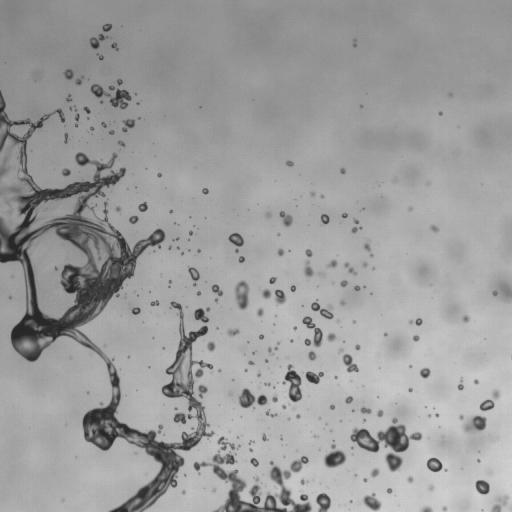droplet: (323, 439, 346, 468), (238, 388, 267, 409), (458, 414, 486, 433), (234, 280, 249, 310), (311, 299, 333, 319), (362, 492, 381, 511), (490, 494, 509, 511), (300, 370, 323, 384), (89, 33, 108, 49), (315, 492, 330, 511), (194, 307, 210, 322), (426, 457, 442, 472), (228, 232, 244, 246), (273, 289, 286, 306), (279, 211, 292, 227), (475, 480, 489, 494), (122, 118, 135, 132), (211, 284, 223, 296), (198, 384, 207, 398), (419, 367, 430, 378), (90, 25, 101, 36), (122, 107, 133, 118), (5, 109, 16, 120), (89, 113, 100, 124), (56, 122, 67, 133), (7, 156, 18, 167), (67, 160, 78, 171), (84, 163, 95, 174), (10, 168, 21, 179), (2, 174, 13, 185), (7, 174, 18, 185), (55, 178, 66, 189), (37, 179, 48, 190), (329, 212, 340, 223), (107, 213, 118, 224), (5, 221, 16, 232), (189, 236, 200, 247), (308, 257, 319, 268), (10, 259, 21, 270), (336, 267, 347, 278), (224, 289, 235, 300), (246, 291, 257, 302), (107, 295, 118, 306), (227, 296, 238, 307), (138, 299, 149, 310), (246, 299, 257, 310), (183, 308, 194, 319), (310, 311, 321, 322), (190, 319, 201, 330), (77, 322, 88, 333), (263, 335, 274, 346), (193, 336, 204, 347), (299, 379, 310, 390), (103, 385, 114, 396), (199, 394, 210, 405), (177, 395, 188, 406), (114, 410, 125, 421), (186, 418, 197, 429), (174, 422, 185, 433), (183, 422, 194, 433), (337, 441, 348, 452), (209, 442, 220, 453), (379, 443, 390, 454), (377, 459, 388, 470), (150, 460, 161, 471), (278, 460, 289, 471), (260, 463, 271, 474), (201, 465, 212, 476), (173, 469, 184, 480), (140, 474, 151, 485), (221, 480, 232, 491), (269, 484, 280, 495), (239, 490, 250, 501), (375, 491, 386, 502), (217, 492, 228, 503), (156, 494, 167, 505), (63, 69, 73, 79), (138, 201, 148, 211), (326, 332, 336, 342), (320, 214, 329, 225), (326, 259, 337, 268), (262, 288, 271, 299), (206, 341, 215, 352), (227, 328, 239, 336), (75, 75, 84, 85), (370, 467, 379, 477), (308, 350, 316, 361), (360, 406, 371, 414), (81, 80, 90, 89), (59, 101, 68, 110), (64, 111, 73, 120), (114, 130, 123, 139), (111, 163, 120, 172), (64, 175, 73, 184), (12, 200, 21, 209), (126, 239, 135, 248), (342, 271, 351, 280), (347, 276, 356, 285), (267, 283, 276, 292), (160, 299, 169, 308), (140, 303, 149, 312), (12, 314, 21, 323), (412, 325, 421, 334), (305, 328, 314, 337), (56, 334, 65, 343), (89, 334, 98, 343), (331, 338, 340, 347), (253, 354, 262, 363), (162, 374, 171, 383), (102, 375, 111, 384), (192, 377, 201, 386), (335, 398, 344, 407), (264, 399, 273, 408), (90, 400, 99, 409), (225, 433, 234, 442), (238, 436, 247, 445), (222, 463, 231, 472), (332, 464, 341, 473), (282, 478, 291, 487), (128, 486, 137, 495), (290, 492, 299, 501), (113, 498, 122, 507), (250, 457, 258, 467), (61, 168, 70, 176), (129, 215, 138, 223), (430, 224, 439, 232), (344, 395, 353, 403), (143, 505, 154, 511), (309, 505, 320, 511), (102, 24, 111, 31), (131, 307, 140, 314), (256, 307, 263, 316), (300, 478, 309, 485), (272, 392, 278, 402), (111, 42, 118, 50), (65, 94, 72, 102), (277, 248, 284, 256), (269, 277, 277, 284), (376, 409, 383, 417), (406, 475, 413, 483), (0, 206, 5, 217), (150, 300, 159, 306), (96, 53, 103, 60), (83, 106, 90, 113), (238, 256, 245, 263), (340, 280, 347, 287), (462, 315, 469, 322), (412, 334, 419, 341), (72, 72, 79, 79), (101, 84, 108, 91), (109, 90, 116, 97), (30, 116, 37, 123), (94, 123, 101, 130), (114, 127, 121, 134), (4, 137, 11, 144), (101, 157, 108, 164), (55, 167, 62, 174), (48, 182, 55, 189), (100, 185, 107, 192), (7, 191, 14, 198), (86, 197, 93, 204), (135, 210, 142, 217), (142, 231, 149, 238), (146, 244, 153, 251), (135, 255, 142, 262), (366, 257, 373, 264), (336, 260, 343, 267), (298, 264, 305, 271), (310, 264, 317, 271), (298, 268, 305, 275), (310, 273, 317, 280), (122, 277, 129, 284), (231, 278, 238, 285), (346, 282, 353, 289), (283, 288, 290, 295), (269, 292, 276, 299), (208, 301, 215, 308), (280, 301, 287, 308), (5, 326, 12, 333), (220, 326, 227, 333), (4, 329, 11, 336), (289, 330, 296, 337), (4, 334, 11, 341), (308, 343, 315, 350), (171, 344, 178, 351), (39, 350, 46, 357), (37, 353, 44, 360), (20, 357, 27, 364), (201, 366, 208, 373), (280, 367, 287, 374), (311, 367, 318, 374), (259, 375, 266, 382), (300, 376, 307, 383), (118, 379, 125, 386), (489, 383, 496, 390), (235, 388, 242, 395), (192, 391, 199, 398), (252, 391, 259, 398), (265, 393, 272, 400), (170, 396, 177, 403), (102, 399, 109, 406), (251, 400, 258, 407), (348, 401, 355, 408), (260, 403, 267, 410), (189, 408, 196, 415), (370, 408, 377, 415), (477, 409, 484, 416), (76, 415, 83, 422), (456, 419, 463, 426), (127, 421, 134, 428), (356, 422, 363, 429), (380, 425, 387, 432), (140, 426, 147, 433), (404, 428, 411, 435), (478, 428, 485, 435), (370, 431, 377, 438), (154, 434, 161, 441), (211, 434, 218, 441), (113, 436, 120, 443), (175, 436, 182, 443), (408, 438, 415, 445), (190, 445, 197, 452), (138, 446, 145, 453), (386, 446, 393, 453), (325, 447, 332, 454), (175, 448, 182, 455), (342, 448, 349, 455), (396, 450, 403, 457), (293, 453, 300, 460), (147, 454, 154, 461), (344, 454, 351, 461), (318, 457, 325, 464), (398, 463, 405, 470), (177, 465, 184, 472), (329, 465, 336, 472), (289, 470, 296, 477), (363, 470, 370, 477), (235, 471, 242, 478), (211, 473, 218, 480), (481, 474, 488, 481), (367, 475, 374, 482), (166, 485, 173, 492), (357, 493, 364, 500), (374, 493, 381, 500), (259, 494, 266, 501), (257, 500, 264, 507), (424, 500, 431, 507), (117, 140, 125, 146), (262, 433, 268, 441), (363, 506, 372, 511), (432, 506, 441, 511), (499, 506, 508, 511), (286, 160, 293, 166), (202, 188, 209, 194), (289, 285, 295, 292), (353, 285, 360, 291), (338, 347, 344, 354), (491, 435, 498, 441), (428, 484, 434, 491), (115, 206, 121, 212), (265, 212, 271, 218), (339, 299, 345, 305), (329, 404, 335, 410), (284, 415, 290, 421), (486, 469, 492, 475), (0, 149, 4, 158), (0, 195, 4, 204), (117, 78, 122, 85), (317, 272, 324, 277), (248, 440, 255, 445), (108, 85, 114, 90), (101, 121, 106, 127), (340, 168, 345, 174), (310, 191, 315, 197), (341, 213, 347, 218), (189, 230, 195, 235), (492, 290, 498, 295), (355, 344, 360, 350), (248, 360, 254, 365), (473, 379, 479, 384), (281, 403, 286, 409), (386, 488, 392, 493), (54, 266, 58, 273), (257, 370, 261, 377), (507, 280, 511, 287), (507, 497, 511, 504), (325, 507, 332, 511), (376, 507, 383, 511), (157, 172, 162, 177), (362, 262, 367, 267), (196, 290, 201, 295), (259, 334, 264, 339), (442, 506, 447, 511), (101, 30, 106, 35), (94, 33, 99, 38), (98, 40, 103, 45), (87, 45, 92, 50), (94, 47, 99, 52), (60, 74, 65, 79), (70, 76, 75, 81), (80, 78, 85, 83), (88, 80, 93, 85), (75, 84, 80, 89), (118, 85, 123, 90), (128, 91, 133, 96), (1, 92, 6, 97), (90, 93, 95, 98), (100, 94, 105, 99), (2, 95, 7, 100), (95, 96, 100, 101), (68, 100, 73, 105), (54, 104, 59, 109), (87, 104, 92, 109), (115, 105, 120, 110), (3, 107, 8, 112), (44, 109, 49, 114), (71, 111, 76, 116), (54, 112, 59, 117), (41, 120, 46, 125), (133, 120, 138, 125), (120, 122, 125, 127), (105, 126, 110, 131), (126, 126, 131, 131), (25, 138, 30, 143), (25, 145, 30, 150), (72, 149, 77, 154), (116, 152, 121, 157), (107, 153, 112, 158), (87, 155, 92, 160), (288, 156, 293, 161), (338, 163, 343, 168), (344, 167, 349, 172), (26, 168, 31, 173), (123, 171, 128, 176), (19, 172, 24, 177), (118, 177, 123, 182), (88, 178, 93, 183), (115, 180, 120, 185), (305, 192, 310, 197), (314, 192, 319, 197), (101, 196, 106, 201), (4, 204, 9, 209), (340, 208, 345, 213), (284, 209, 289, 214), (106, 212, 111, 217), (20, 213, 25, 218), (99, 213, 104, 218), (278, 216, 283, 221), (126, 221, 131, 226), (290, 221, 295, 226), (433, 221, 438, 226), (351, 222, 356, 227), (354, 223, 359, 228), (113, 224, 118, 229), (160, 225, 165, 230), (191, 227, 196, 232), (428, 229, 433, 234), (163, 230, 168, 235), (239, 231, 244, 236), (159, 240, 164, 245), (173, 240, 178, 245), (242, 241, 247, 246), (359, 241, 364, 246), (368, 242, 373, 247), (231, 243, 236, 248), (152, 244, 157, 249), (171, 245, 176, 250), (237, 245, 242, 250), (273, 247, 278, 252), (282, 247, 287, 252), (191, 248, 196, 253), (310, 248, 315, 253), (363, 249, 368, 254), (302, 254, 307, 259), (343, 257, 348, 262), (325, 258, 330, 263), (348, 262, 353, 267), (366, 264, 371, 269), (328, 266, 333, 271), (343, 266, 348, 271), (353, 266, 358, 271), (185, 272, 190, 277), (237, 276, 242, 281), (338, 276, 343, 281), (244, 278, 249, 283), (195, 279, 200, 284), (335, 280, 340, 285), (193, 286, 198, 291), (489, 286, 494, 291), (117, 288, 122, 293), (496, 288, 501, 293), (257, 290, 262, 295), (213, 292, 218, 297), (496, 292, 501, 297), (217, 295, 222, 300), (175, 298, 180, 303), (180, 303, 185, 308), (319, 303, 324, 308), (194, 304, 199, 309), (201, 305, 206, 310), (181, 306, 186, 311), (173, 307, 178, 312), (262, 309, 267, 314), (462, 310, 467, 315), (203, 311, 208, 316), (465, 311, 470, 316), (332, 314, 337, 319), (256, 315, 261, 320), (457, 315, 462, 320), (272, 317, 277, 322), (329, 317, 334, 322), (463, 321, 468, 326), (230, 325, 235, 330), (206, 328, 211, 333), (333, 330, 338, 335), (222, 331, 227, 336), (408, 333, 413, 338), (321, 334, 326, 339), (413, 340, 418, 345), (190, 341, 195, 346), (213, 341, 218, 346), (339, 342, 344, 347), (269, 343, 274, 348), (84, 346, 89, 351), (203, 346, 208, 351), (213, 346, 218, 351), (100, 347, 105, 352), (339, 351, 344, 356), (93, 352, 98, 357), (303, 352, 308, 357), (170, 355, 175, 360), (191, 355, 196, 360), (266, 355, 271, 360), (202, 358, 207, 363), (168, 359, 173, 364), (29, 360, 34, 365), (111, 360, 116, 365), (421, 363, 426, 368), (102, 364, 107, 369), (246, 364, 251, 369), (342, 364, 347, 369), (418, 364, 423, 369), (212, 365, 217, 370), (350, 370, 355, 375), (116, 371, 121, 376), (427, 373, 432, 378), (417, 374, 422, 379), (318, 376, 323, 381), (285, 380, 290, 385), (461, 380, 466, 385), (106, 382, 111, 387), (206, 386, 211, 391), (498, 389, 503, 394), (342, 393, 347, 398), (487, 394, 492, 399), (119, 395, 124, 400), (195, 396, 200, 401), (286, 397, 291, 402), (479, 397, 484, 402), (492, 398, 497, 403), (296, 399, 301, 404), (95, 403, 100, 408), (364, 403, 369, 408), (247, 405, 252, 410), (355, 408, 360, 413), (171, 409, 176, 414), (430, 410, 435, 415), (79, 412, 84, 417), (362, 412, 367, 417), (454, 412, 459, 417), (290, 414, 295, 419), (430, 414, 435, 419), (297, 417, 302, 422), (205, 418, 210, 423), (320, 418, 325, 423), (484, 419, 489, 424), (324, 425, 329, 430), (153, 426, 158, 431), (204, 427, 209, 432), (418, 428, 423, 433), (348, 429, 353, 434), (79, 430, 84, 435), (201, 435, 206, 440), (420, 435, 425, 440), (87, 441, 92, 446), (352, 441, 357, 446), (195, 442, 200, 447), (93, 445, 98, 450), (360, 447, 365, 452), (368, 450, 373, 455), (430, 452, 435, 457), (248, 453, 253, 458), (438, 457, 443, 462), (196, 458, 201, 463), (208, 458, 213, 463), (422, 458, 427, 463), (300, 462, 305, 467), (248, 463, 253, 468), (441, 463, 446, 468), (256, 464, 261, 469), (267, 464, 272, 469), (189, 465, 194, 470), (199, 465, 204, 470), (438, 468, 443, 473), (393, 469, 398, 474), (427, 469, 432, 474), (434, 470, 439, 475), (348, 471, 353, 476), (374, 474, 379, 479), (477, 475, 482, 480), (412, 476, 417, 481), (403, 479, 408, 484), (471, 485, 476, 490), (488, 485, 493, 490), (301, 489, 306, 494), (316, 489, 321, 494), (425, 489, 430, 494), (473, 489, 478, 494), (326, 491, 331, 496), (366, 491, 371, 496), (477, 492, 482, 497), (480, 493, 485, 498), (329, 500, 334, 505), (440, 501, 445, 506), (108, 130, 114, 134), (264, 382, 270, 386), (313, 434, 319, 438), (89, 126, 94, 130), (408, 206, 412, 211), (197, 248, 201, 253), (214, 298, 218, 303), (293, 326, 297, 331), (408, 387, 412, 392), (228, 391, 232, 396), (291, 406, 296, 410), (295, 414, 300, 418), (181, 489, 185, 494), (438, 111, 442, 115), (320, 194, 324, 198), (169, 209, 173, 213), (276, 232, 280, 236), (335, 319, 339, 323), (352, 320, 356, 324), (217, 368, 221, 372), (435, 413, 439, 417), (249, 448, 253, 452), (363, 478, 367, 482), (212, 488, 216, 492), (168, 245, 171, 250), (235, 248, 238, 253), (363, 418, 366, 423), (477, 458, 480, 463), (0, 84, 3, 89), (445, 508, 450, 511), (448, 93, 452, 96), (99, 100, 103, 103), (176, 246, 180, 249), (180, 251, 183, 255), (372, 266, 375, 270), (384, 332, 387, 336), (289, 339, 293, 342), (162, 346, 165, 350), (265, 358, 268, 362), (408, 364, 412, 367), (244, 368, 247, 372), (334, 375, 337, 379), (427, 414, 431, 417), (350, 446, 354, 449), (183, 473, 186, 477), (354, 473, 357, 477), (349, 499, 352, 503), (0, 159, 2, 164), (0, 261, 2, 266), (134, 92, 137, 95), (136, 102, 139, 105), (360, 104, 363, 107), (363, 285, 366, 288), (369, 292, 372, 295), (8, 296, 11, 299), (274, 314, 277, 317), (342, 340, 345, 343), (127, 355, 130, 358), (86, 391, 89, 394), (424, 405, 427, 408), (352, 409, 355, 412), (318, 416, 321, 419), (339, 419, 342, 422), (329, 429, 332, 432), (444, 468, 447, 471), (61, 498, 64, 501), (105, 20, 108, 23), (102, 21, 105, 24), (350, 40, 353, 43), (355, 41, 358, 44), (116, 44, 119, 47), (350, 45, 353, 48), (355, 45, 358, 48), (111, 47, 114, 50), (95, 55, 98, 58), (102, 57, 105, 60), (99, 59, 102, 62), (66, 66, 69, 69), (62, 68, 65, 71), (115, 76, 118, 79), (121, 78, 124, 81), (87, 86, 90, 89), (125, 88, 128, 91), (64, 94, 67, 97), (69, 95, 72, 98), (137, 99, 140, 102), (360, 101, 363, 104), (83, 103, 86, 106), (136, 104, 139, 107), (356, 104, 359, 107), (71, 106, 74, 109), (360, 107, 363, 110), (436, 109, 439, 112), (83, 110, 86, 113), (442, 111, 445, 114), (86, 113, 89, 116), (437, 114, 440, 117), (140, 116, 143, 119), (78, 117, 81, 120), (123, 117, 126, 120), (64, 118, 67, 121), (100, 118, 103, 121), (73, 119, 76, 122), (104, 120, 107, 123), (77, 124, 80, 127), (92, 124, 95, 127), (100, 125, 103, 128), (73, 126, 76, 129), (88, 129, 91, 132), (122, 131, 125, 134), (108, 133, 111, 136), (67, 134, 70, 137), (62, 137, 65, 140), (66, 138, 69, 141), (123, 140, 126, 143), (120, 145, 123, 148), (26, 156, 29, 159), (16, 158, 19, 161), (4, 164, 7, 167), (18, 164, 21, 167), (287, 165, 290, 168), (154, 171, 157, 174), (160, 171, 163, 174), (340, 173, 343, 176), (31, 175, 34, 178), (158, 176, 161, 179), (32, 178, 35, 181), (131, 185, 134, 188), (136, 186, 139, 189), (199, 187, 202, 190), (207, 187, 210, 190), (206, 192, 209, 195), (322, 192, 325, 195), (319, 197, 322, 200), (106, 199, 109, 202), (140, 200, 143, 203), (145, 202, 148, 205), (115, 203, 118, 206), (361, 204, 364, 207), (101, 206, 104, 209), (105, 206, 108, 209), (168, 206, 171, 209), (364, 207, 367, 210), (145, 208, 148, 211), (172, 209, 175, 212), (360, 209, 363, 212), (345, 210, 348, 213), (322, 211, 325, 214), (170, 212, 173, 215), (188, 212, 191, 215), (276, 212, 279, 215), (327, 213, 330, 216), (185, 215, 188, 218), (126, 216, 129, 219), (354, 216, 357, 219), (328, 217, 331, 220), (343, 217, 346, 220), (107, 218, 110, 221), (136, 219, 139, 222), (171, 219, 174, 222), (175, 220, 178, 223), (319, 220, 322, 223), (192, 221, 195, 224), (110, 222, 113, 225), (174, 223, 177, 226), (324, 223, 327, 226), (357, 228, 360, 231), (118, 229, 121, 232), (231, 230, 234, 233), (185, 231, 188, 234), (191, 233, 194, 236), (226, 233, 229, 236), (173, 235, 176, 238), (276, 235, 279, 238), (187, 245, 190, 248), (199, 246, 202, 249), (307, 246, 310, 249), (290, 248, 293, 251), (178, 249, 181, 252), (183, 250, 186, 253), (199, 251, 202, 254), (243, 255, 246, 258), (307, 256, 310, 259), (242, 260, 245, 263), (189, 264, 192, 267), (193, 265, 196, 268), (185, 267, 188, 270), (196, 268, 199, 271), (372, 269, 375, 272), (198, 271, 201, 274), (272, 274, 275, 277), (165, 279, 168, 282), (171, 279, 174, 282), (191, 279, 194, 282), (266, 279, 269, 282), (212, 281, 215, 284), (363, 282, 366, 285), (169, 283, 172, 286), (288, 283, 291, 286), (339, 285, 342, 288), (359, 285, 362, 288), (167, 287, 170, 290), (209, 288, 212, 291), (294, 288, 297, 291), (352, 288, 355, 291), (150, 289, 153, 292), (135, 290, 138, 293), (145, 290, 148, 293), (200, 290, 203, 293), (355, 290, 358, 293), (372, 291, 375, 294), (489, 292, 492, 295), (133, 293, 136, 296), (138, 293, 141, 296), (221, 293, 224, 296), (5, 294, 8, 297), (198, 294, 201, 297), (368, 294, 371, 297), (11, 295, 14, 298), (152, 298, 155, 301), (169, 298, 172, 301), (343, 298, 346, 301), (312, 299, 315, 302), (158, 300, 161, 303), (316, 300, 319, 303), (147, 301, 150, 304), (308, 302, 311, 305), (134, 304, 137, 307), (153, 304, 156, 307), (129, 306, 132, 309), (139, 308, 142, 311), (329, 309, 332, 312), (131, 313, 134, 316), (135, 313, 138, 316), (176, 315, 179, 318), (418, 315, 421, 318), (352, 316, 355, 319), (412, 318, 415, 321), (355, 320, 358, 323), (274, 321, 277, 324), (349, 321, 352, 324), (269, 323, 272, 326), (292, 323, 295, 326), (303, 323, 306, 326), (419, 323, 422, 326), (415, 324, 418, 327), (218, 325, 221, 328), (272, 325, 275, 328), (290, 327, 293, 330), (238, 328, 241, 331), (295, 328, 298, 331), (383, 329, 386, 332), (260, 331, 263, 334), (380, 332, 383, 335), (387, 332, 390, 335), (234, 333, 237, 336), (255, 335, 258, 338), (263, 335, 266, 338), (384, 335, 387, 338), (148, 336, 151, 339), (288, 336, 291, 339), (246, 337, 249, 340), (292, 337, 295, 340), (258, 338, 261, 341), (276, 338, 279, 341), (344, 338, 347, 341), (286, 339, 289, 342), (243, 340, 246, 343), (279, 341, 282, 344), (301, 341, 304, 344), (357, 341, 360, 344), (276, 344, 279, 347), (359, 345, 362, 348), (158, 346, 161, 349), (251, 348, 254, 351), (271, 348, 274, 351), (161, 349, 164, 352), (265, 350, 268, 353), (254, 351, 257, 354), (124, 354, 127, 357), (108, 357, 111, 360), (128, 357, 131, 360), (197, 358, 200, 361), (251, 358, 254, 361), (261, 359, 264, 362), (147, 362, 150, 365), (264, 362, 267, 365), (405, 363, 408, 366), (356, 364, 359, 367), (144, 365, 147, 368), (150, 365, 153, 368), (220, 368, 223, 371), (320, 368, 323, 371), (162, 369, 165, 372), (241, 369, 244, 372), (255, 370, 258, 373), (216, 371, 219, 374), (244, 371, 247, 374), (334, 372, 337, 375), (331, 375, 334, 378), (474, 376, 477, 379), (228, 378, 231, 381), (477, 378, 480, 381), (474, 383, 477, 386), (269, 384, 272, 387), (409, 384, 412, 387), (454, 385, 457, 388), (462, 387, 465, 390), (158, 388, 161, 391), (405, 388, 408, 391), (411, 388, 414, 391), (458, 389, 461, 392), (83, 391, 86, 394), (408, 391, 411, 394), (349, 393, 352, 396), (373, 394, 376, 397), (378, 395, 381, 398), (424, 402, 427, 405), (326, 404, 329, 407), (334, 405, 337, 408), (279, 406, 282, 409), (379, 406, 382, 409), (203, 408, 206, 411), (328, 408, 331, 411), (268, 410, 271, 413), (436, 410, 439, 413), (351, 411, 354, 414), (299, 413, 302, 416), (438, 413, 441, 416), (171, 414, 174, 417), (267, 414, 270, 417), (273, 415, 276, 418), (170, 418, 173, 421), (158, 421, 161, 424), (160, 428, 163, 431), (314, 431, 317, 434), (310, 432, 313, 435), (238, 435, 241, 438), (259, 435, 262, 438), (265, 435, 268, 438), (277, 435, 280, 438), (208, 436, 211, 439), (282, 436, 285, 439), (332, 436, 335, 439), (347, 436, 350, 439), (250, 437, 253, 440), (314, 437, 317, 440), (277, 438, 280, 441), (246, 439, 249, 442), (229, 440, 232, 443), (263, 440, 266, 443), (250, 442, 253, 445), (130, 443, 133, 446), (234, 444, 237, 447), (479, 449, 482, 452), (305, 454, 308, 457), (233, 456, 236, 459), (426, 456, 429, 459), (478, 456, 481, 459), (307, 457, 310, 460), (247, 458, 250, 461), (256, 458, 259, 461), (474, 460, 477, 463), (354, 470, 357, 473), (360, 476, 363, 479), (360, 479, 363, 482), (303, 482, 306, 485), (384, 486, 387, 489), (433, 487, 436, 490), (391, 488, 394, 491), (184, 491, 187, 494), (384, 491, 387, 494), (390, 491, 393, 494), (349, 496, 352, 499), (351, 500, 354, 503), (69, 106, 71, 110), (87, 116, 89, 119), (362, 207, 364, 210), (187, 239, 190, 241), (187, 249, 190, 251), (331, 282, 334, 284), (185, 306, 188, 308), (246, 341, 249, 343), (232, 378, 234, 381), (276, 381, 279, 383), (273, 386, 275, 389), (288, 403, 291, 405), (432, 407, 435, 409), (325, 422, 327, 425), (163, 433, 165, 436), (236, 436, 239, 438), (318, 448, 320, 451), (134, 452, 137, 454), (351, 453, 353, 456), (478, 509, 481, 511), (482, 509, 485, 511), (138, 117, 140, 119), (189, 216, 191, 218), (174, 222, 176, 224), (193, 225, 195, 227), (288, 249, 290, 251), (153, 250, 155, 252), (301, 305, 303, 307), (273, 323, 275, 325), (216, 327, 218, 329), (152, 337, 154, 339), (148, 366, 150, 368), (378, 367, 380, 369), (362, 385, 364, 387), (377, 396, 379, 398), (438, 425, 440, 427), (478, 450, 480, 452), (283, 455, 285, 457), (481, 509, 483, 511), (135, 186, 136, 188), (204, 217, 206, 218), (240, 416, 242, 417), (100, 159, 101, 160), (149, 291, 150, 292), (461, 468, 462, 469)
ligament: (90, 84, 131, 109), (282, 364, 303, 402), (479, 389, 500, 411), (342, 353, 359, 372), (304, 249, 314, 279), (187, 265, 200, 286), (363, 239, 373, 257), (344, 262, 357, 275), (503, 286, 511, 301), (265, 409, 278, 417), (408, 318, 422, 325), (457, 377, 463, 390), (74, 113, 79, 127), (419, 506, 433, 511), (274, 340, 280, 350), (268, 346, 274, 355), (64, 132, 68, 143), (240, 349, 245, 355), (172, 237, 179, 241), (168, 280, 172, 287), (353, 38, 356, 47), (252, 350, 256, 355), (74, 105, 77, 111), (509, 505, 511, 511), (134, 291, 135, 293)
